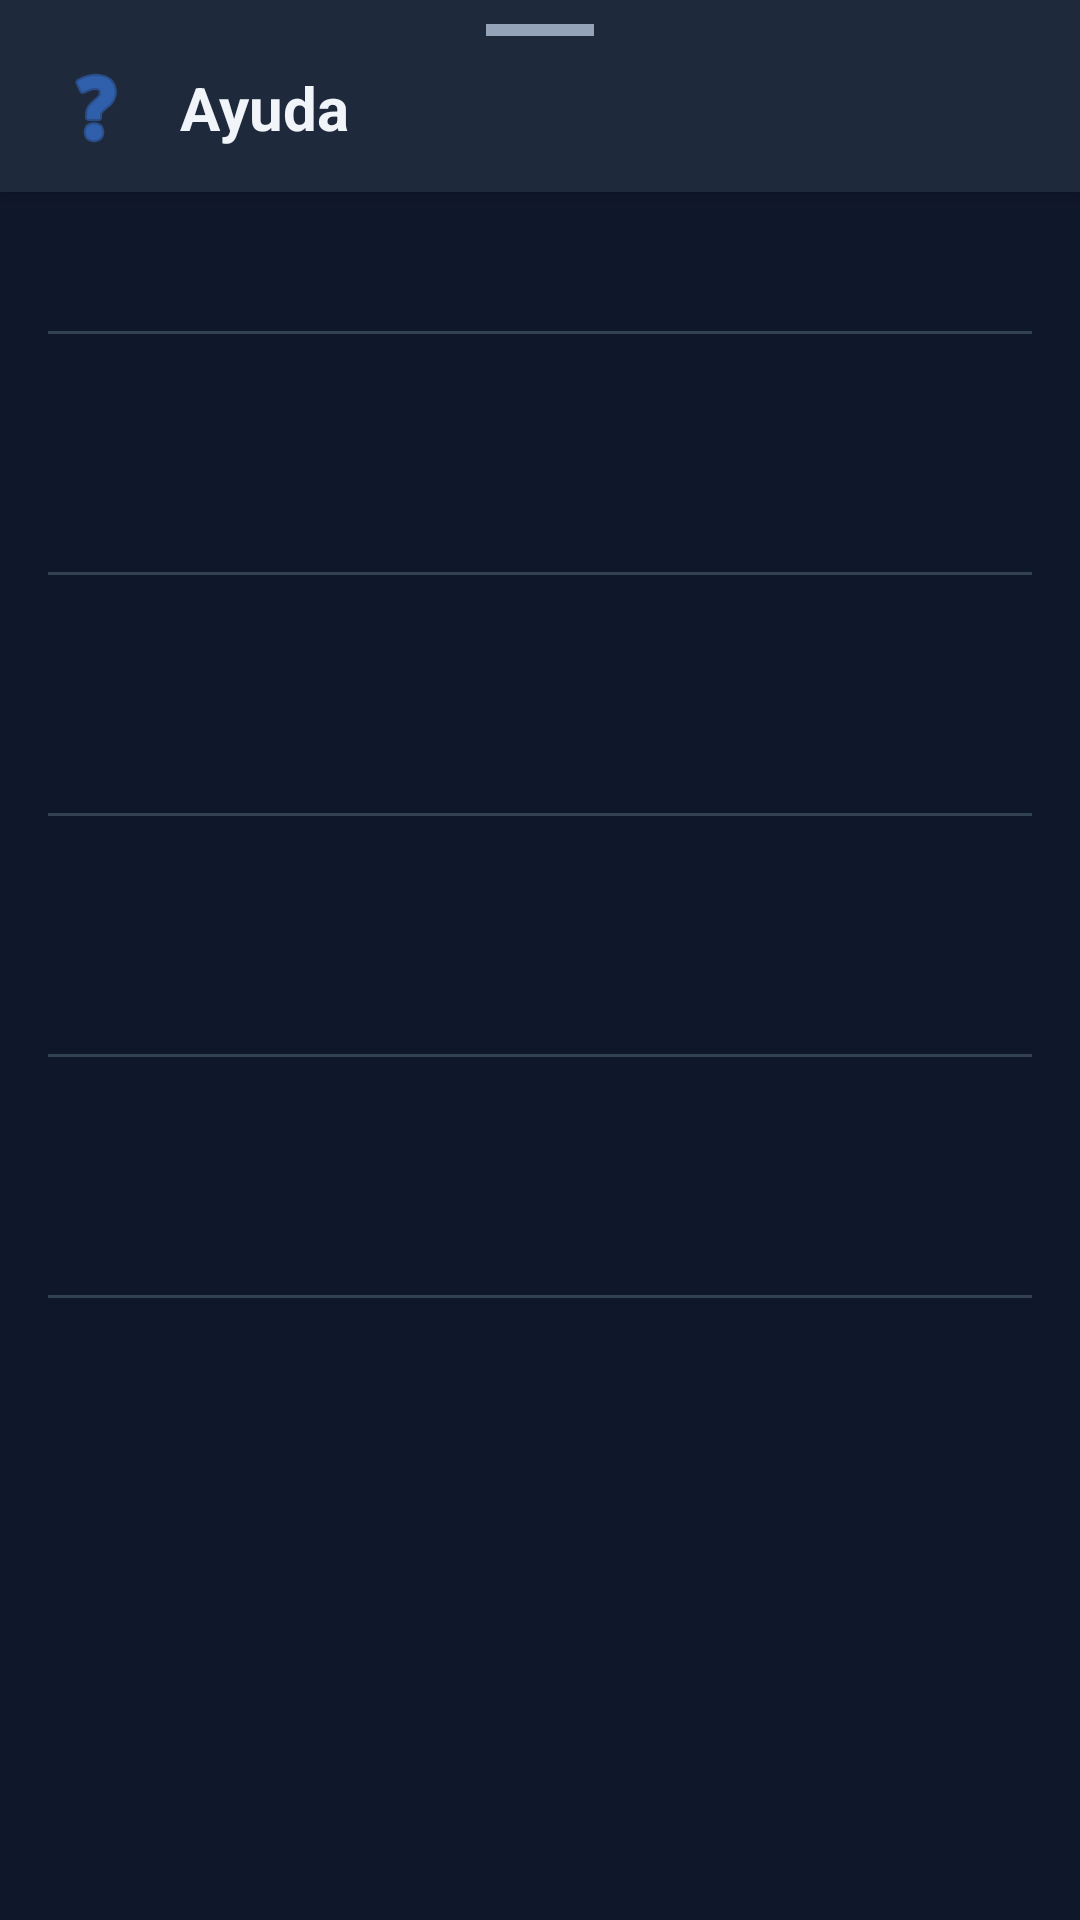

Where icons sit on this 1080 × 1920 app screen, as box(x1, y1, x2, y2):
help: box(75, 74, 117, 142)
